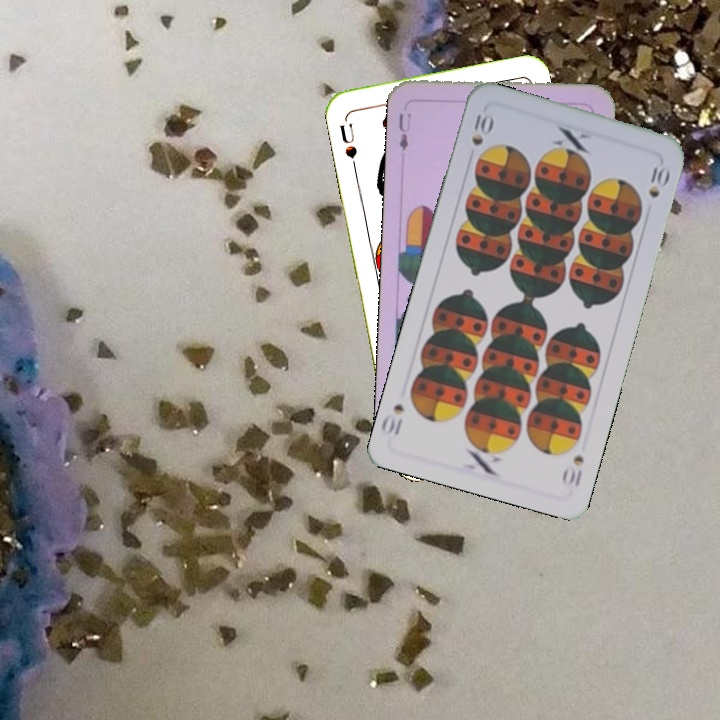EU: (394, 109, 414, 153)
S10: (467, 108, 496, 148), (558, 450, 587, 489)
SU: (335, 113, 360, 172)
